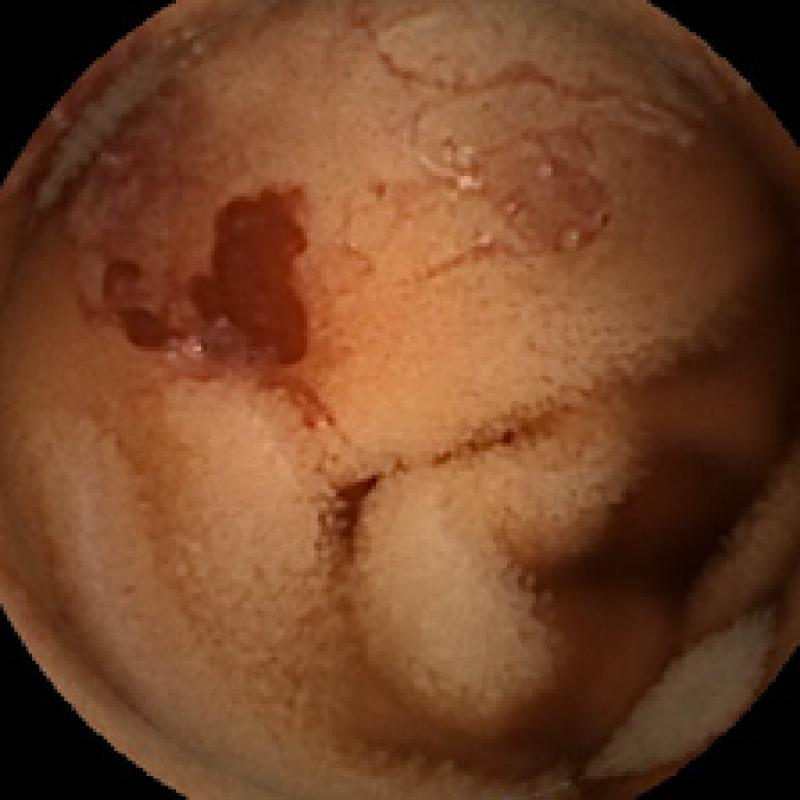bleeding: (93, 171, 311, 361)
